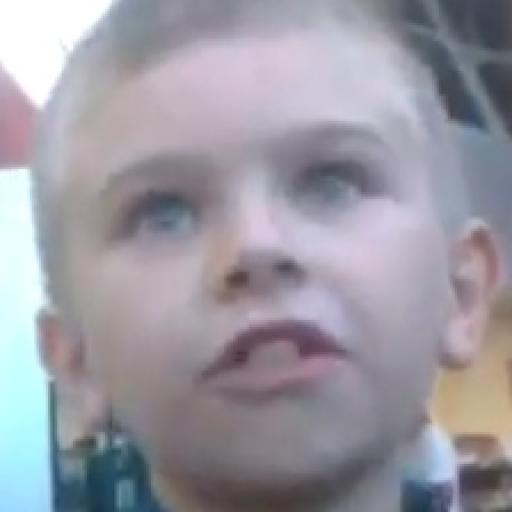Autism: (33, 32, 492, 493)
